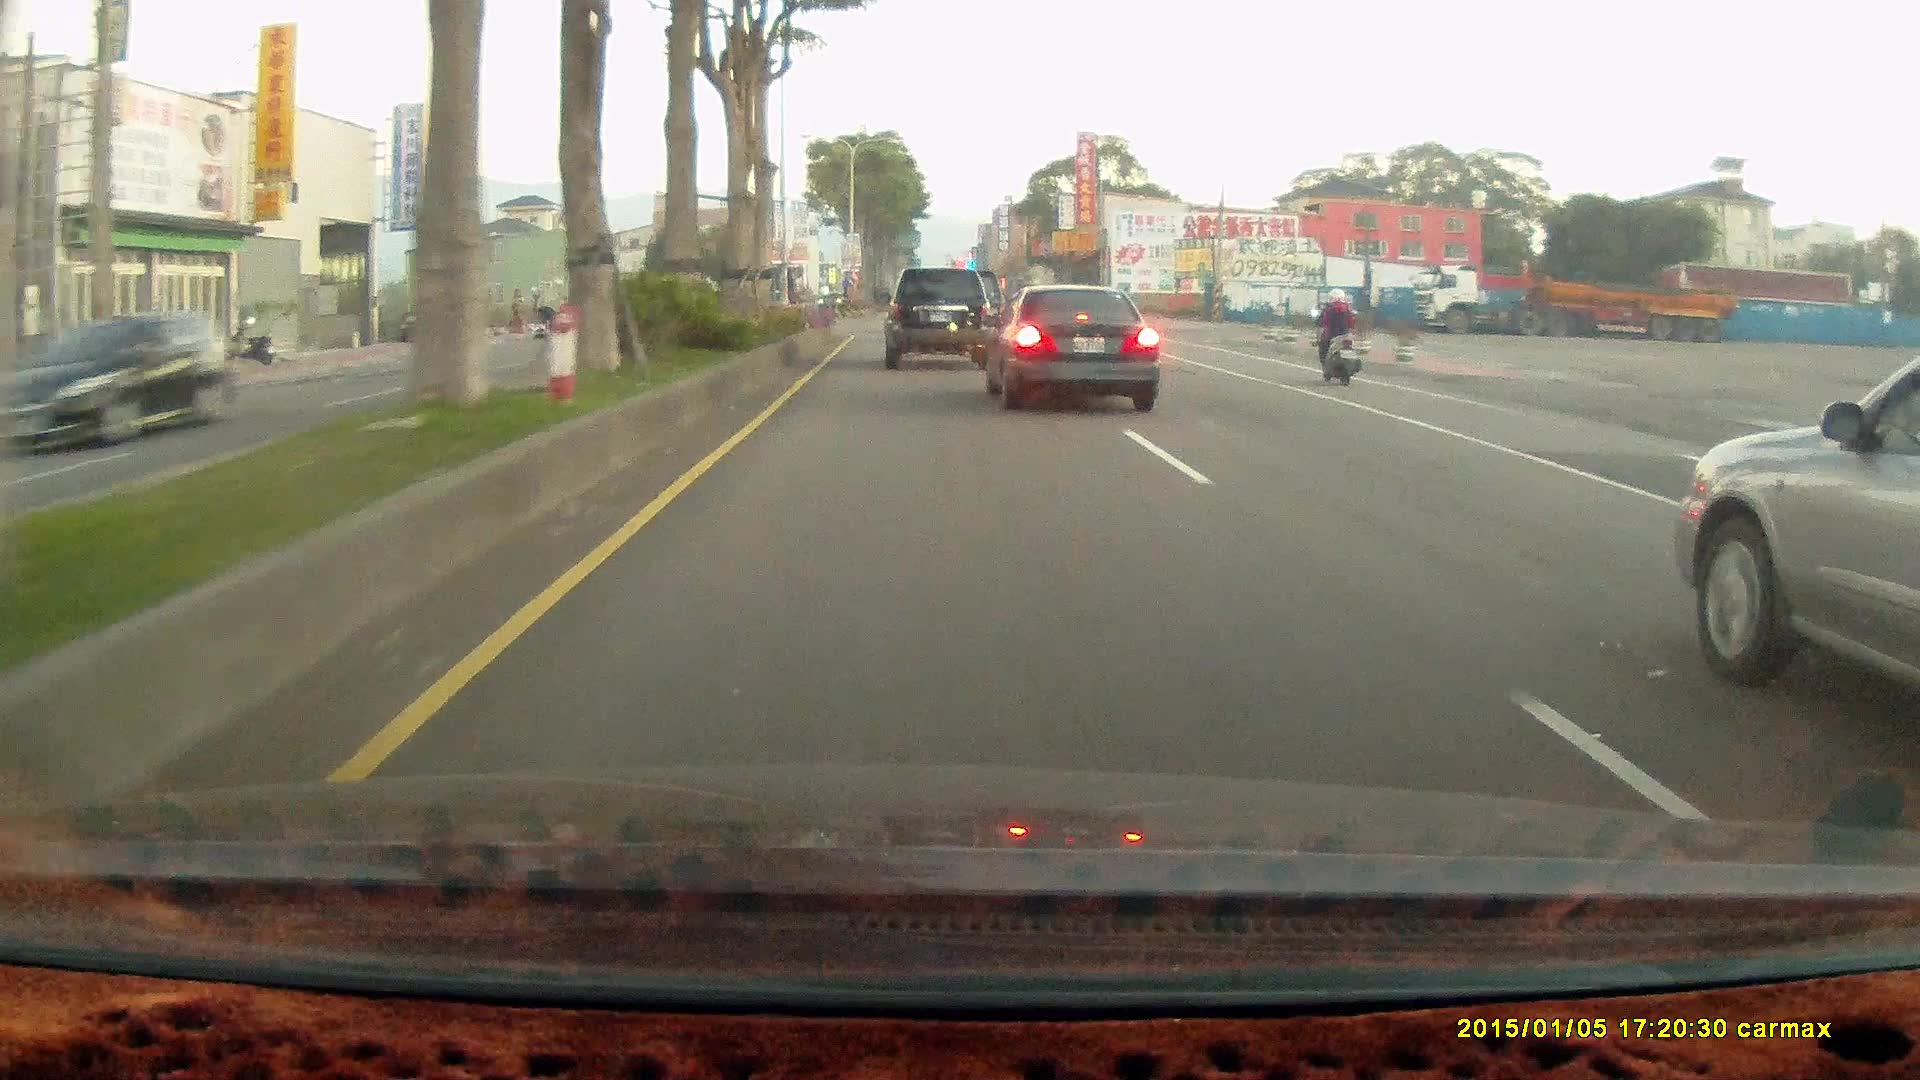pedestrian: (531, 302, 556, 335)
rider: (1302, 282, 1372, 391), (1308, 283, 1362, 382)
vehicle: (1673, 355, 1920, 727), (0, 309, 236, 450), (42, 306, 233, 445), (1408, 266, 1734, 343), (981, 281, 1160, 412), (985, 282, 1160, 408), (880, 262, 1000, 365), (879, 263, 993, 364)
